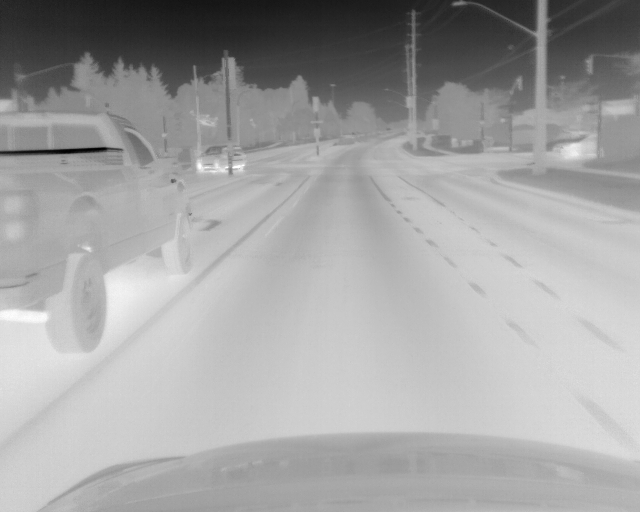car: (1, 110, 196, 353), (193, 143, 247, 173)
